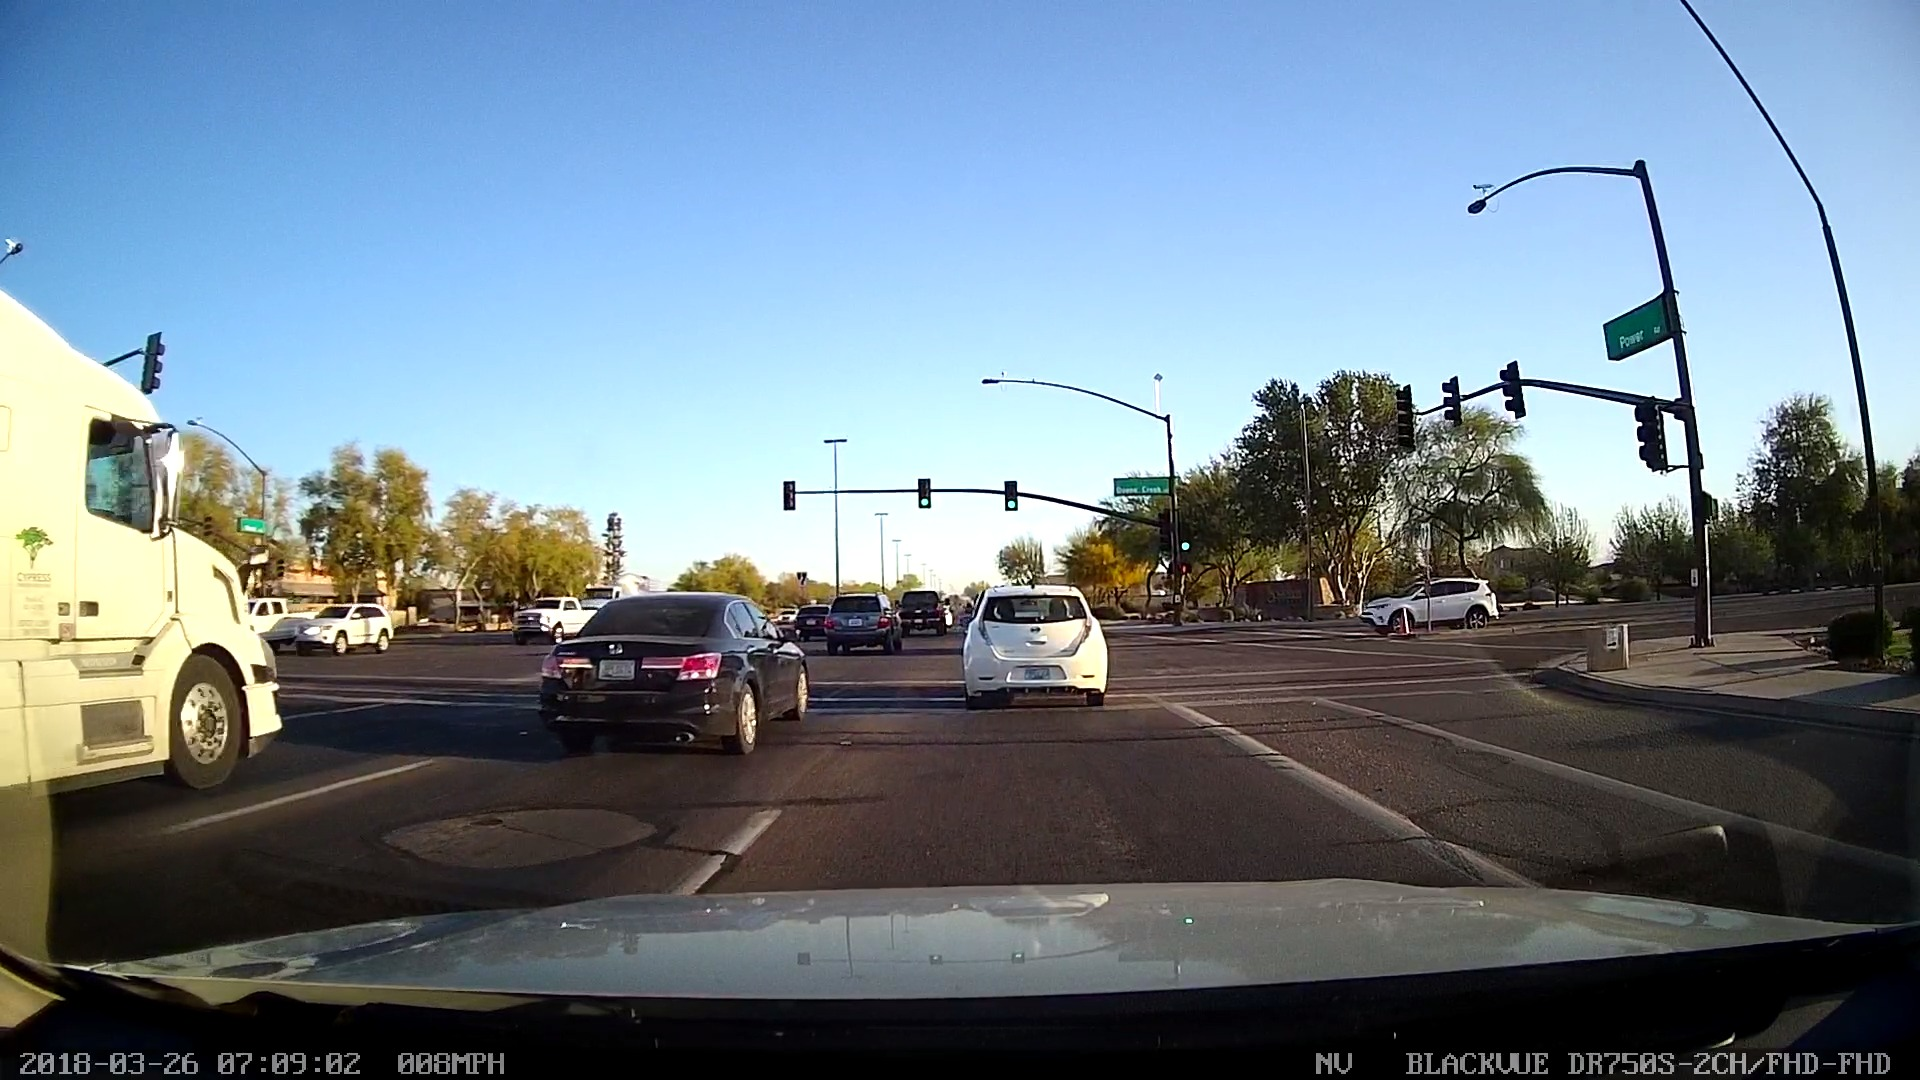vehicle: (0, 270, 301, 793), (520, 574, 815, 769), (948, 574, 1113, 723), (1353, 559, 1501, 651), (276, 591, 406, 671), (487, 588, 601, 658), (818, 582, 910, 662), (585, 662, 646, 694), (1011, 654, 1065, 688)
